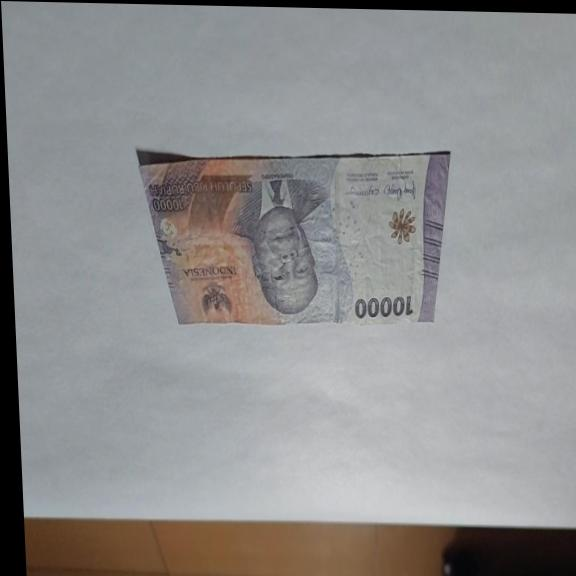Kertas: (134, 143, 458, 332), (353, 293, 414, 321)
